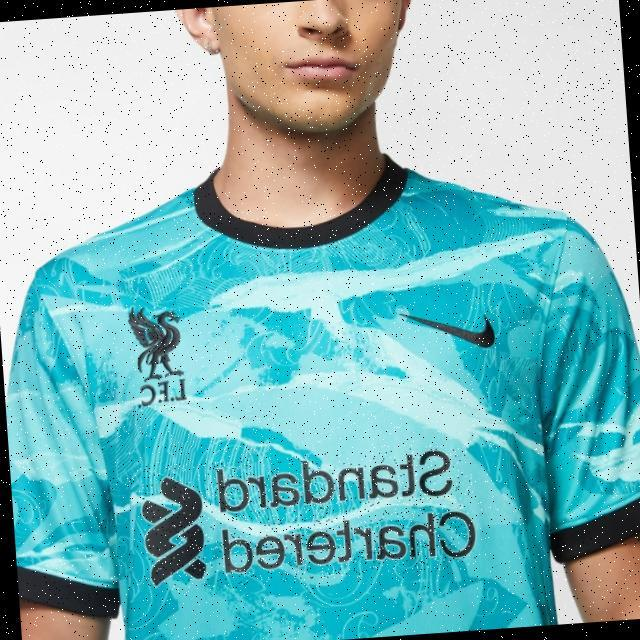Nike: (394, 306, 495, 352)
Standard Chartered: (140, 443, 478, 591)
